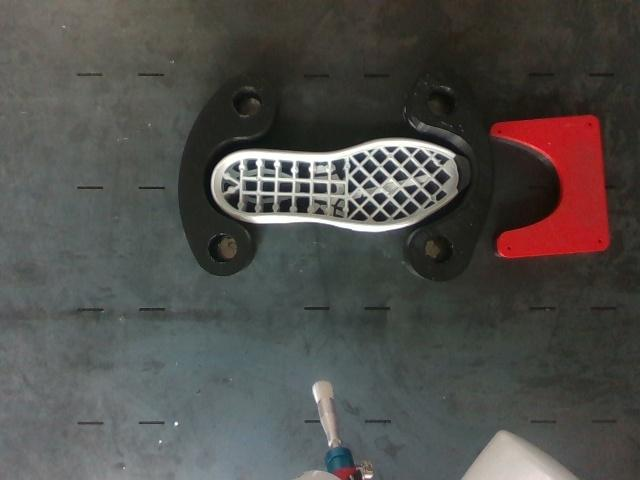shoes: (214, 140, 469, 226)
